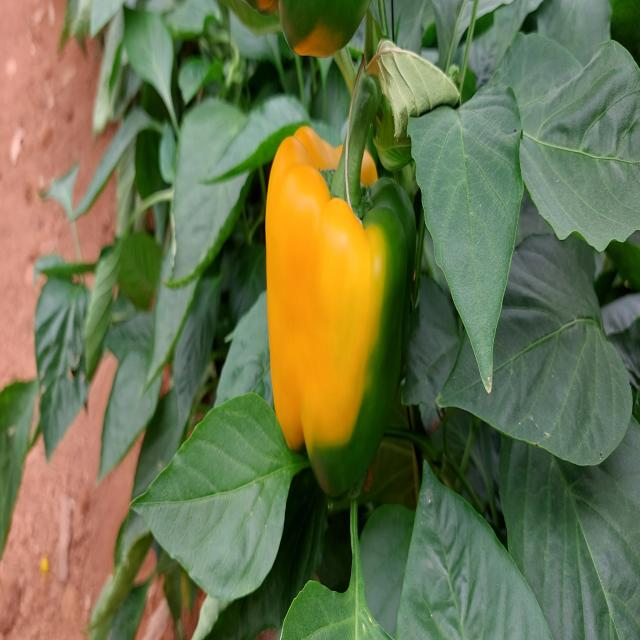GreenishYellow--Can-be-Harvested: (256, 132, 415, 511)
